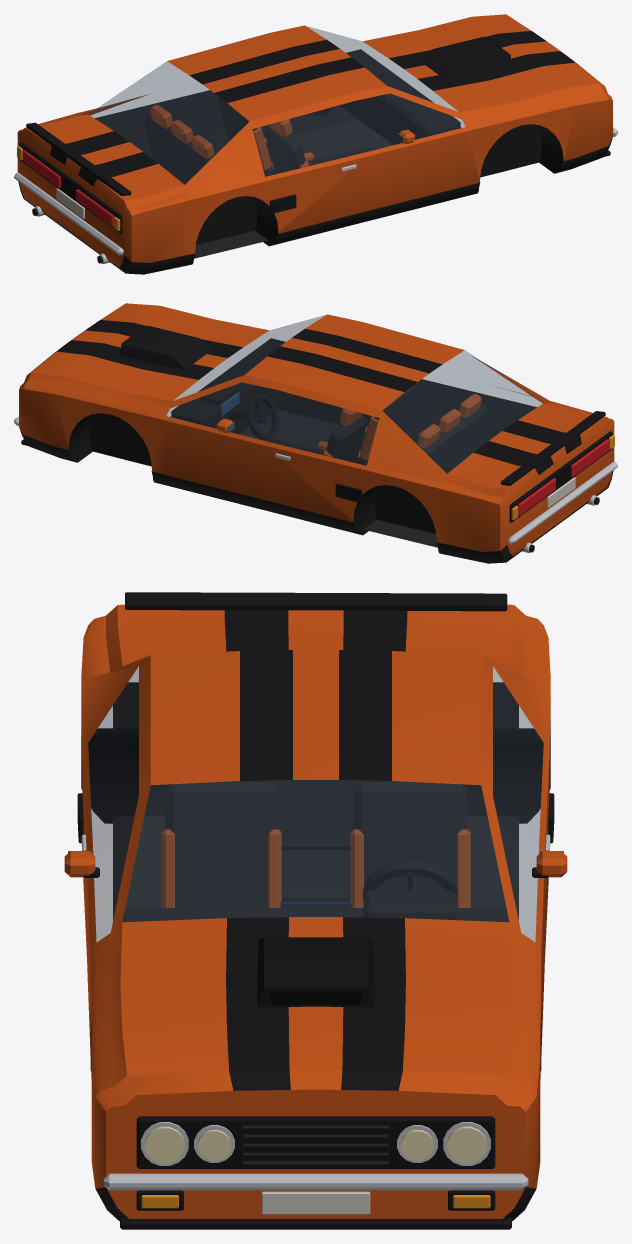
Rendered from thunder.glb.
3 renders of one model, top to bottom at view 1: azimuth 30°, elevation 25°; view 2: azimuth 150°, elevation 25°; view 3: azimuth 270°, elevation 25°, orthographic. The views are drawn at different scales.
Visible parts, largest first — view 1: Body, Glass, Interior, Details, TailLights; view 2: Body, Glass, Interior, Details, TailLights; view 3: Body, Glass, Interior, Details, HeadLights.
Boxes of the visible parts, x1,y1,x2,y2 form: Body: (14, 14, 617, 274); Glass: (88, 26, 465, 184); Interior: (95, 49, 460, 258); Details: (26, 36, 511, 264); TailLights: (22, 150, 113, 226); Body: (14, 303, 617, 563); Glass: (166, 315, 543, 473); Interior: (171, 338, 536, 547); Details: (120, 325, 605, 553); TailLights: (518, 439, 609, 515); Body: (64, 604, 567, 1229); Glass: (88, 666, 543, 941); Interior: (113, 682, 518, 922); Details: (125, 592, 507, 1007); HeadLights: (145, 1126, 486, 1163).
Bounding box in the file's own units: 4.9 × 1.17 × 2.13.
